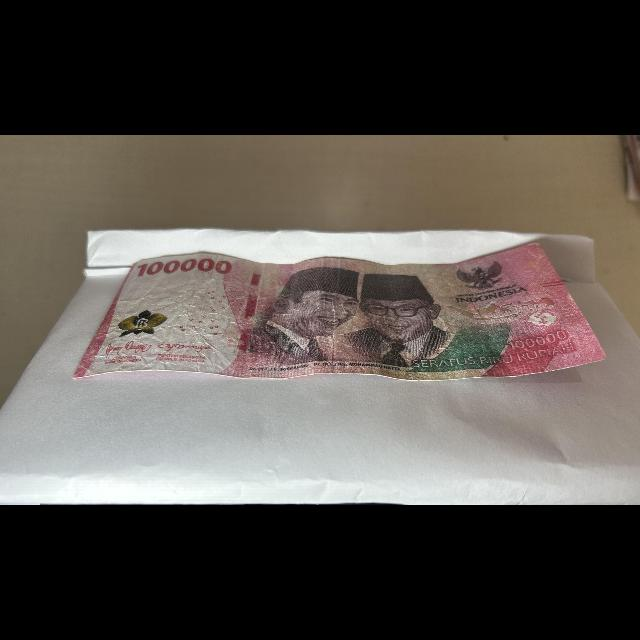Palsu-100k: (65, 240, 623, 385)
Tinta-Palsu-100k: (111, 306, 174, 338)
